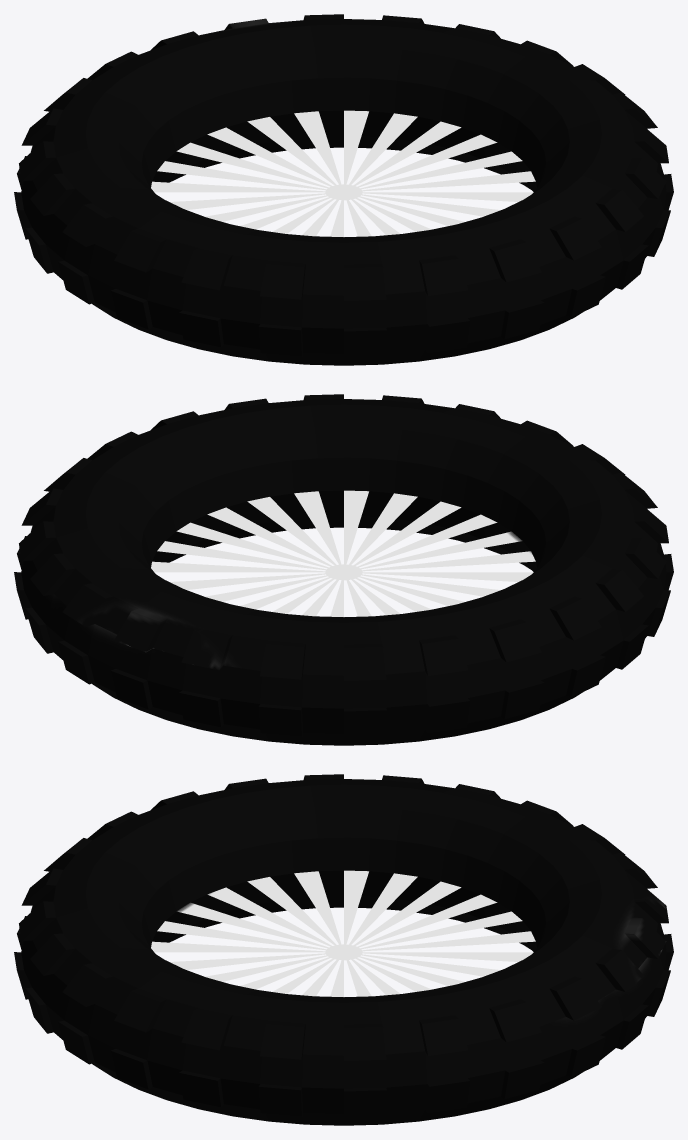
Rendered from wheel.fbx.
The picture shows the model from 3 angles, top to bottom: view 1: azimuth 30°, elevation 25°; view 2: azimuth 150°, elevation 25°; view 3: azimuth 270°, elevation 25°; orthographic projection.
Parts seen in each view (by area): view 1: Torus; view 2: Torus; view 3: Torus.
Part boxes in pixels (<box>): Torus: <box>14,14,673,365</box>; Torus: <box>14,394,673,745</box>; Torus: <box>14,774,673,1125</box>.
Size of the model in its own units: 256 by 50 by 256.
Materials: 1 (1 with a texture image).
